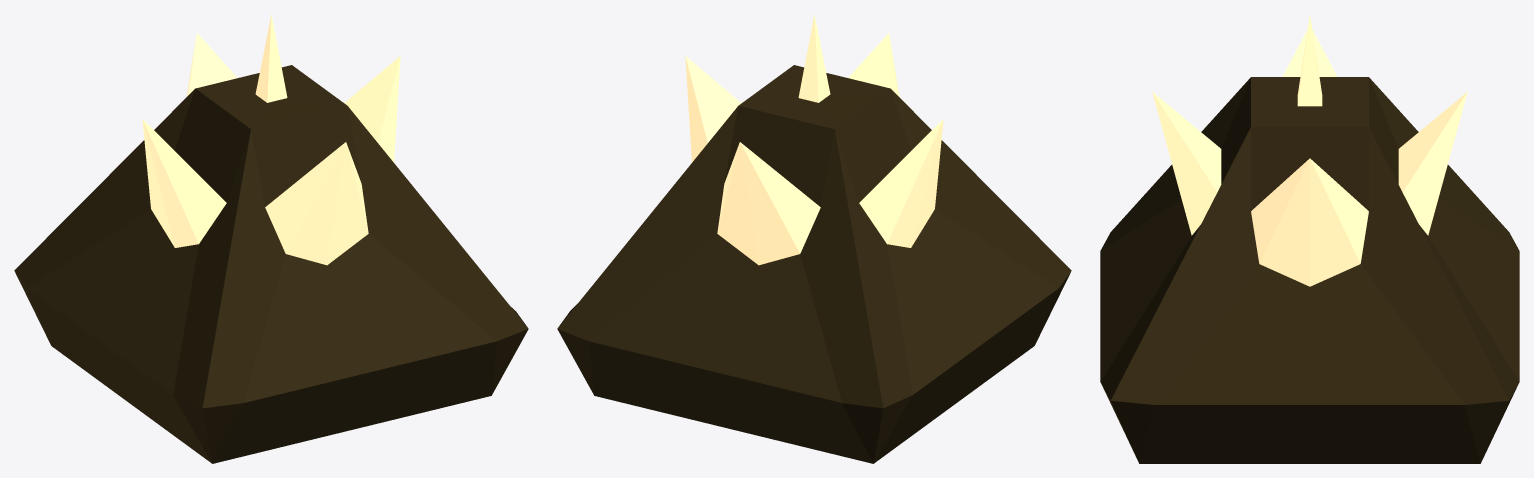
Rendered from Pyramid_m_Clockwork_prototype.fbx.
3 renders of one model, left to right at view 1: azimuth 30°, elevation 25°; view 2: azimuth 150°, elevation 25°; view 3: azimuth 270°, elevation 25°, orthographic. The views are drawn at different scales.
Visible parts, largest first — view 1: Cube; view 2: Cube; view 3: Cube.
Part boxes in pixels (left/top/right/bottom): Cube: left=14, top=14, right=528, bottom=463; Cube: left=557, top=14, right=1071, bottom=463; Cube: left=1100, top=15, right=1519, bottom=463.
Size of the model in its own units: 246 by 244 by 246.
